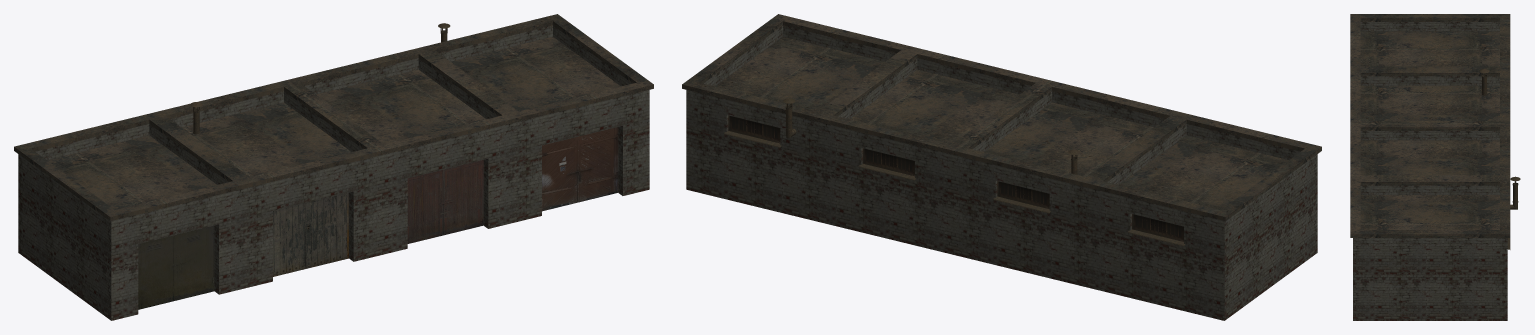
Rendered from garages_block_hr_1.obj.
The picture shows the model from 3 angles, left to right: view 1: azimuth 30°, elevation 25°; view 2: azimuth 150°, elevation 25°; view 3: azimuth 270°, elevation 25°; orthographic projection. The views are drawn at different scales.
Visible parts, largest first — view 1: garages_block_hr_1; view 2: garages_block_hr_1; view 3: garages_block_hr_1.
Part boxes in pixels (bbox=[...]): garages_block_hr_1: bbox=[14, 14, 653, 320]; garages_block_hr_1: bbox=[682, 14, 1321, 320]; garages_block_hr_1: bbox=[1350, 14, 1520, 320].
Bounding box in the file's own units: 20.2 × 4.3 × 6.6.
